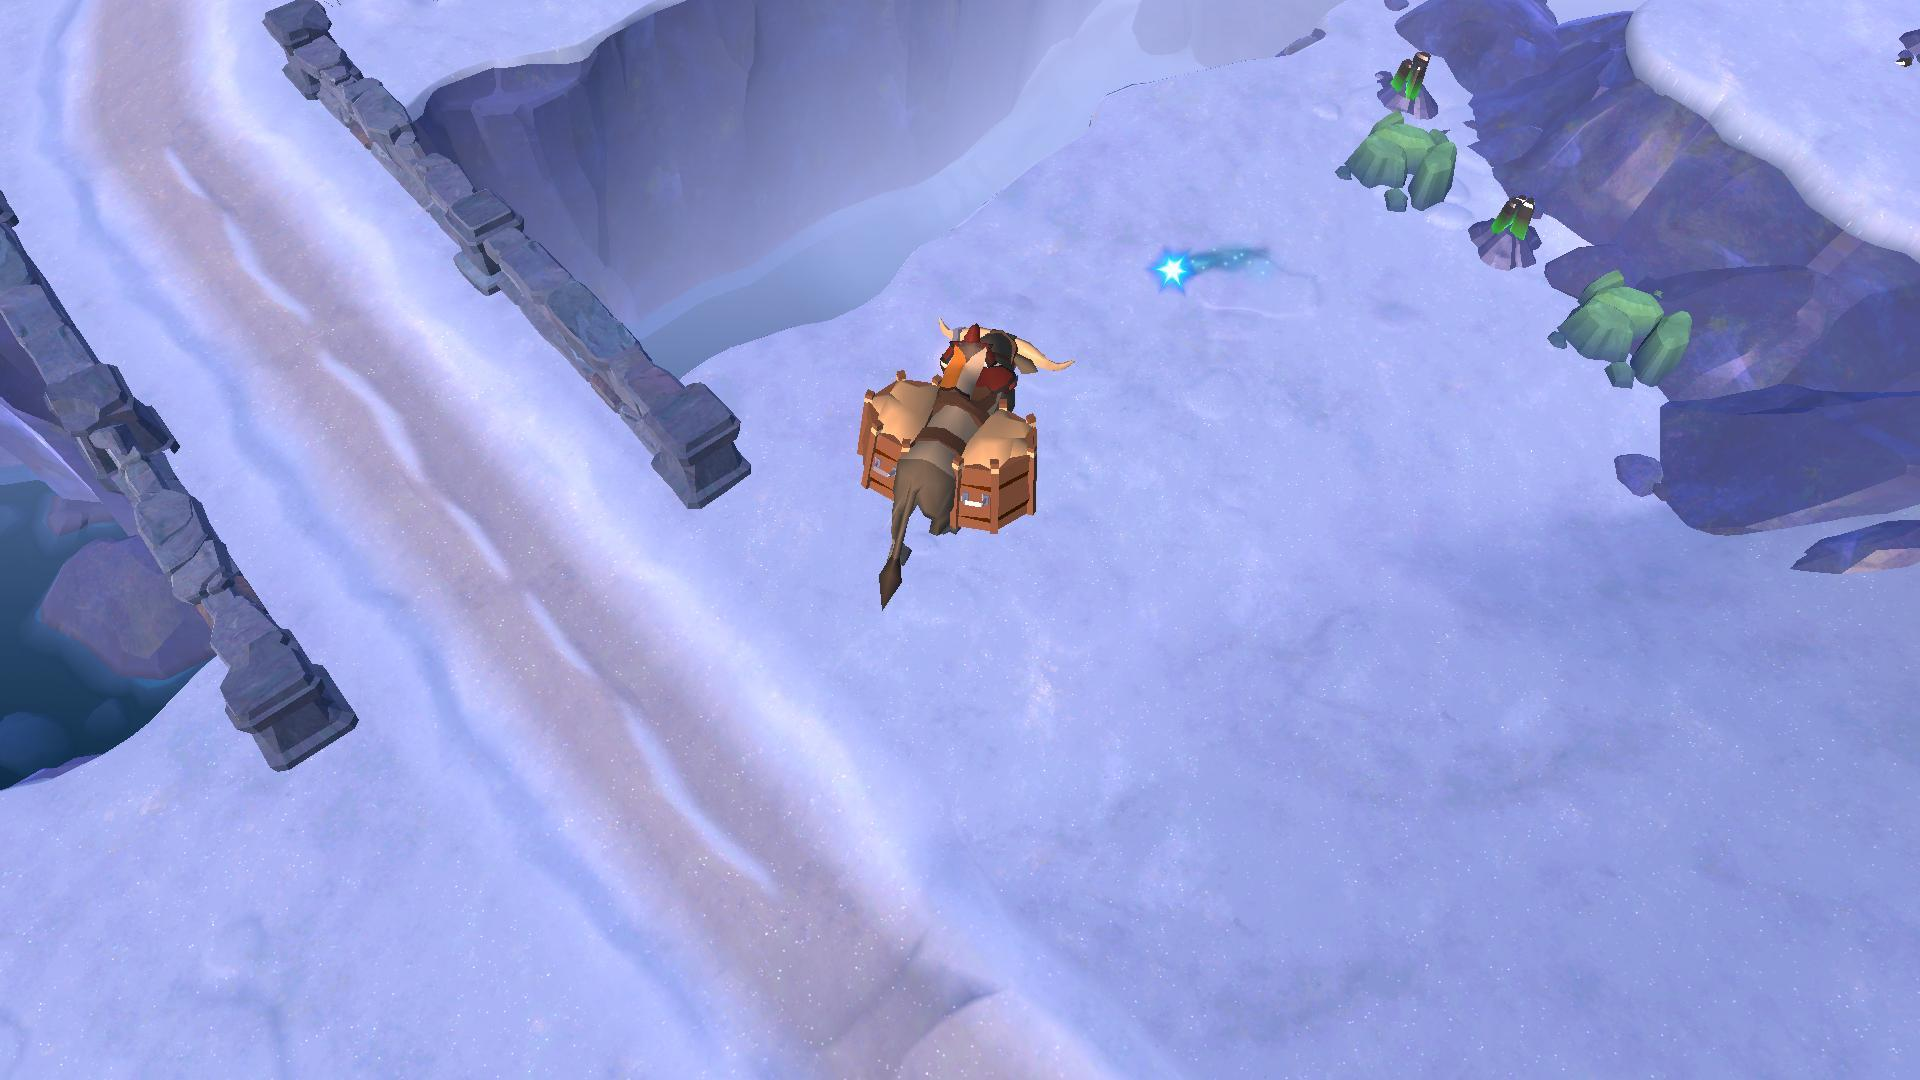ore_t3: (1489, 183, 1542, 251), (1383, 47, 1427, 108)
rock_t3: (1556, 258, 1688, 394), (1335, 108, 1462, 216)
